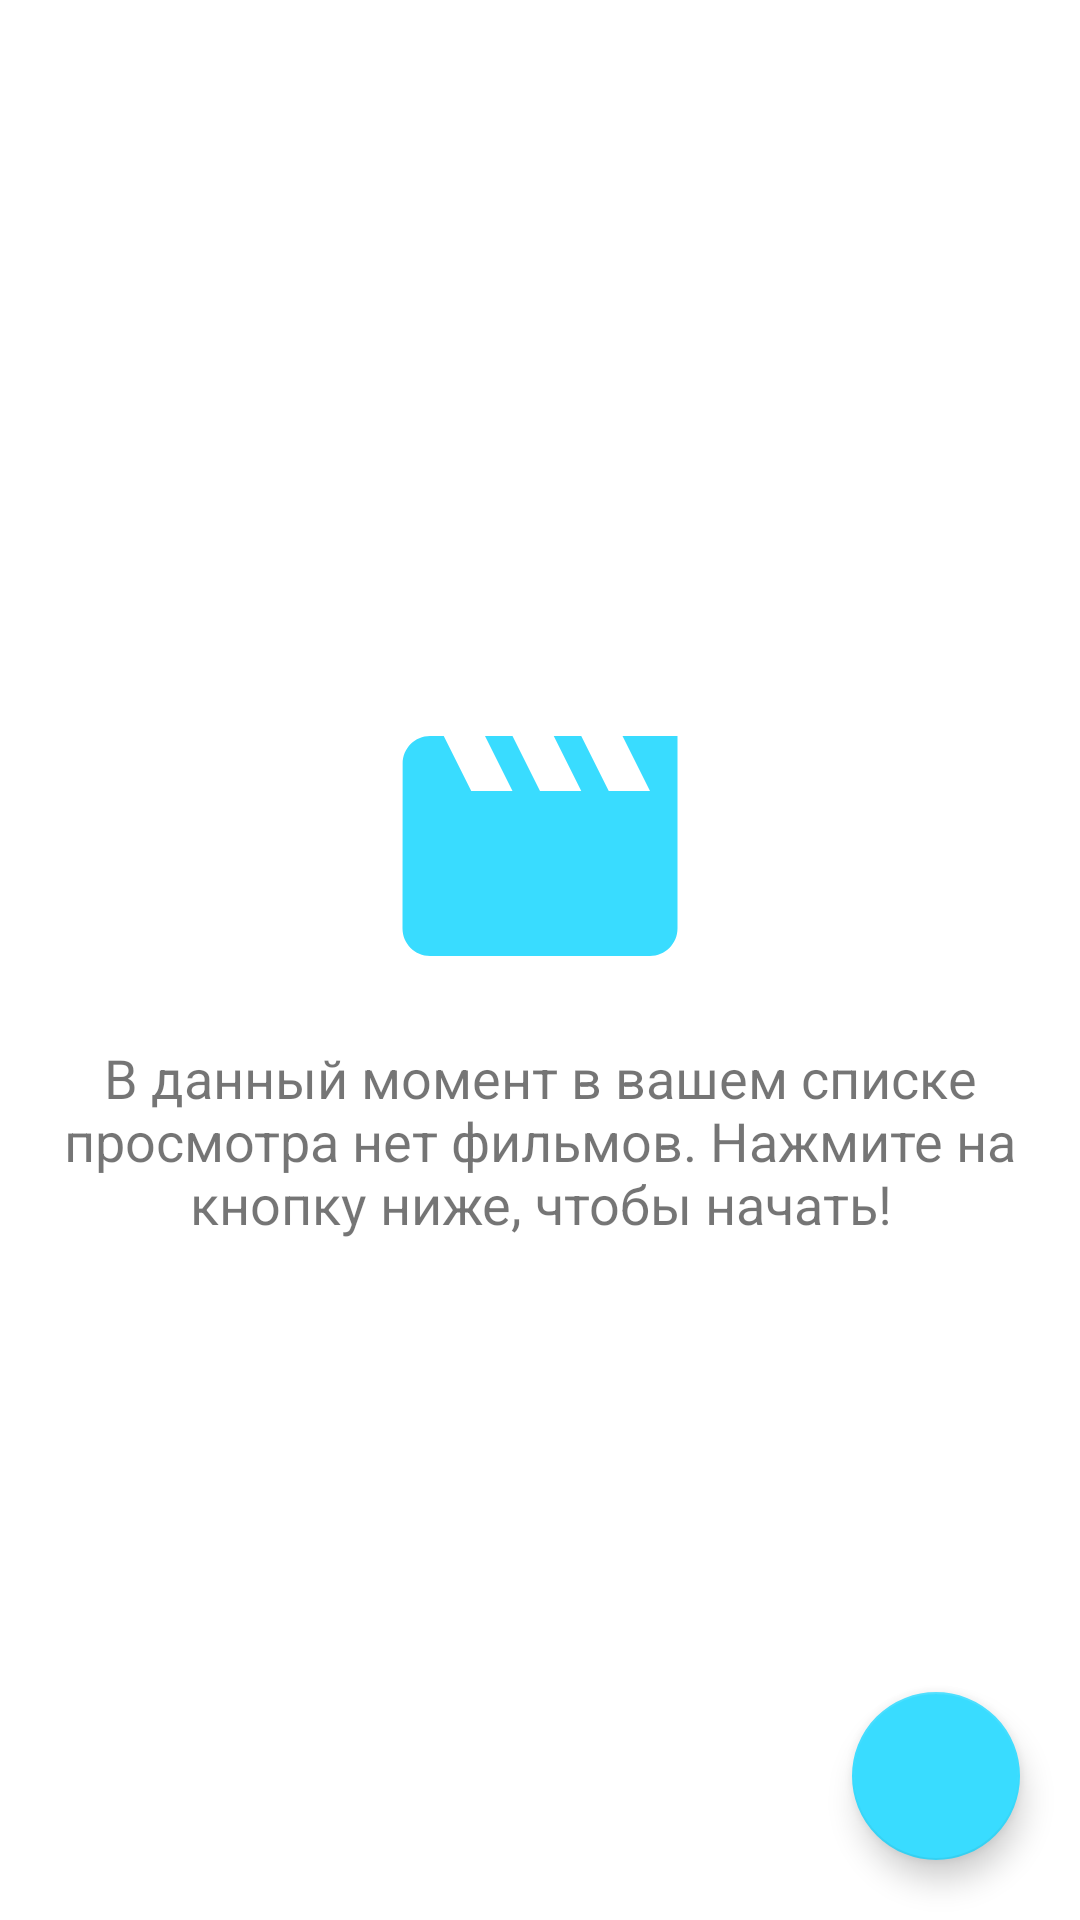

Named icons in this screenshot (1080w x 1920h) and their bounding boxes, BBox(x1, y1, x2, y2):
movie: BBox(402, 736, 678, 956)
